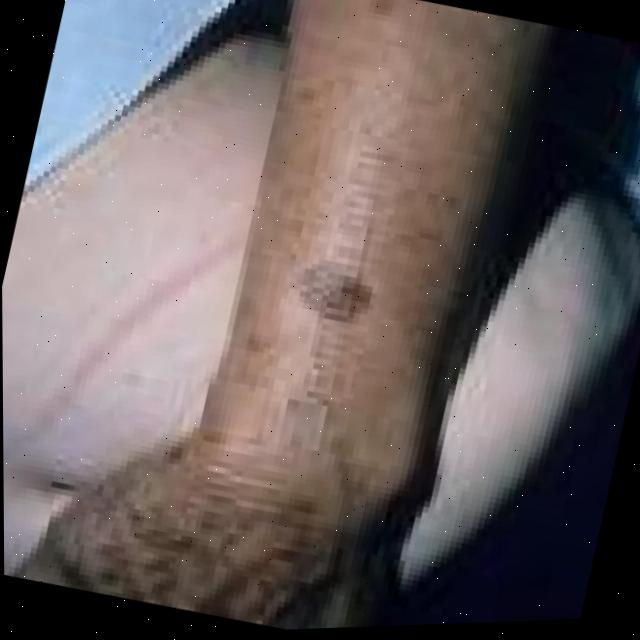Melasma: (277, 240, 382, 342)
